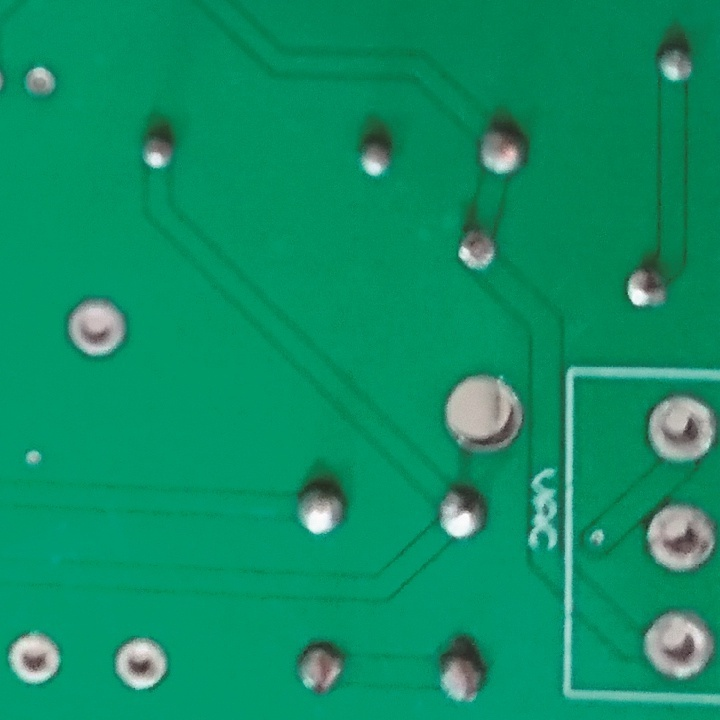F: (644, 389, 718, 470), (644, 500, 720, 577), (641, 609, 720, 683), (61, 293, 130, 360), (110, 632, 170, 696), (5, 628, 67, 688), (18, 61, 67, 103)
